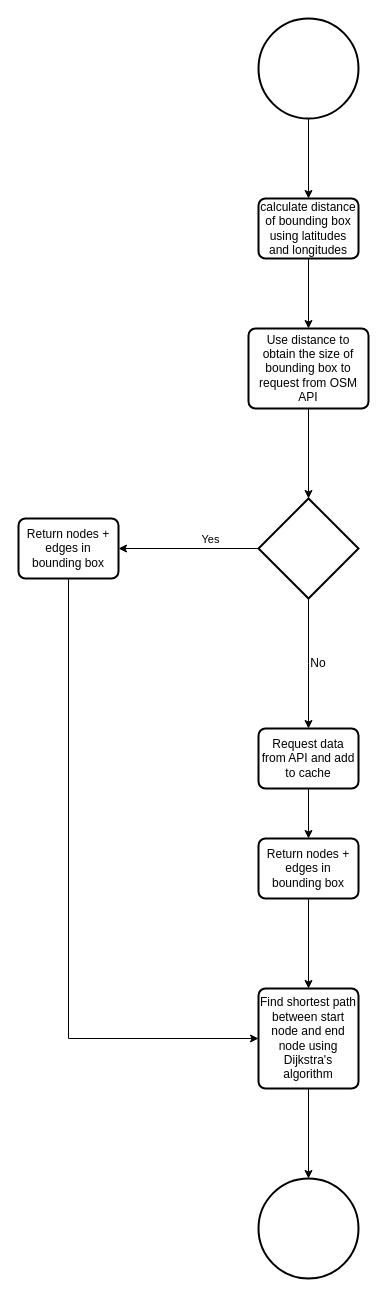
The diagram is 386 pixels wide and 1296 high, and some of its shapes have lost their labels. Each missing label, with the centre of its shape:
Is bounding box already in cache?: (x=308, y=548)
Return edges that connect the two nodes: (x=308, y=1228)
start (lat_0, lon_0, lat_1, lon_1 defined previously): (x=308, y=68)
